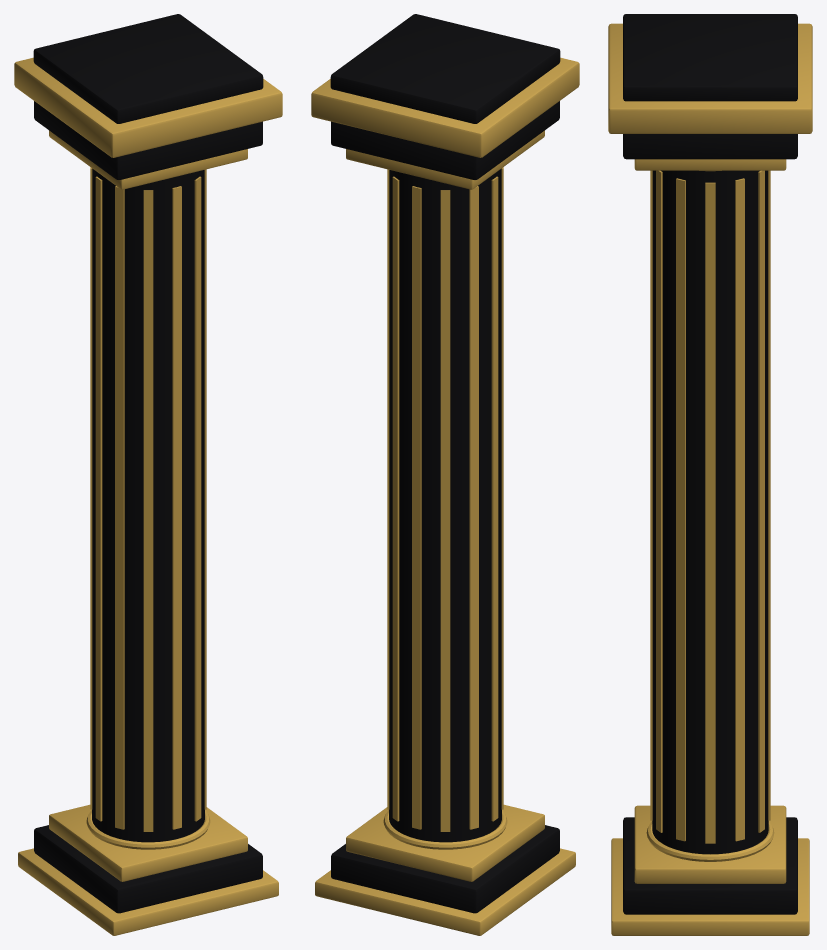
Rendered from pillar.glb.
The picture shows the model from 3 angles, left to right: view 1: azimuth 30°, elevation 25°; view 2: azimuth 150°, elevation 25°; view 3: azimuth 270°, elevation 25°; orthographic projection. The views are drawn at different scales.
Parts seen in each view (by area): view 1: pillar; view 2: pillar; view 3: pillar.
Boxes of the visible parts, x1,y1,x2,y2 form: pillar: [14, 14, 282, 935]; pillar: [311, 14, 579, 935]; pillar: [608, 14, 812, 935].
Size of the model in its own units: 0.7 by 3.2 by 0.7.
